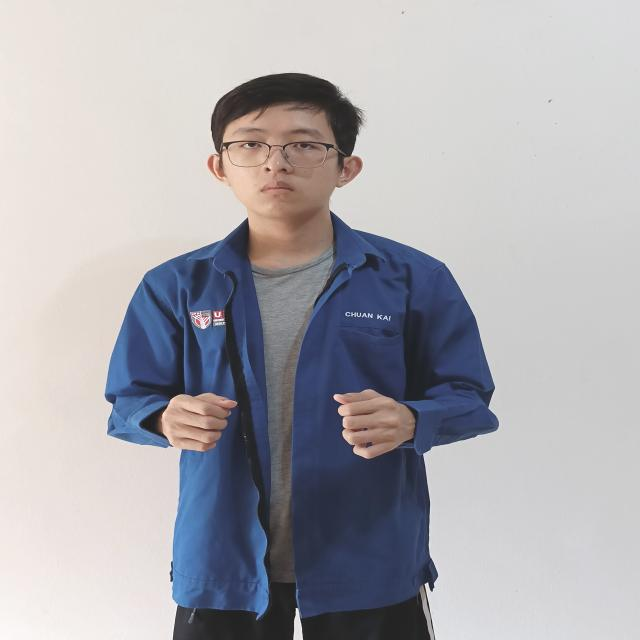person_with_labcoat: (105, 73, 498, 640)
